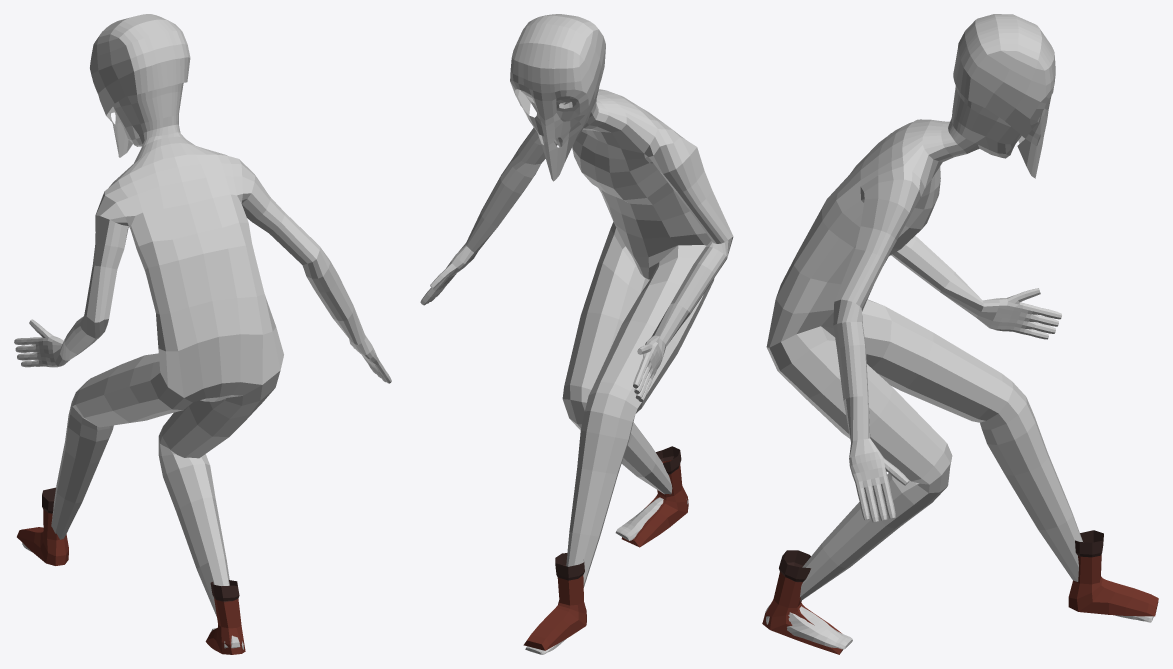
The model's file is saltoadelante_000135.obj.
The picture shows the model from 3 angles, left to right: view 1: azimuth 30°, elevation 25°; view 2: azimuth 150°, elevation 25°; view 3: azimuth 270°, elevation 25°; orthographic projection. The views are drawn at different scales.
Parts seen in each view (by area): view 1: Plane.002_Plane.001, Plane.003, Plane.004; view 2: Plane.002_Plane.001, Plane.004, Plane.003; view 3: Plane.002_Plane.001, Plane.004, Plane.003.
Boxes of the visible parts, x1,y1,x2,y2 form: Plane.002_Plane.001: [14, 14, 391, 649]; Plane.003: [205, 580, 245, 654]; Plane.004: [17, 487, 68, 565]; Plane.002_Plane.001: [420, 14, 733, 654]; Plane.004: [523, 553, 586, 650]; Plane.003: [621, 446, 688, 547]; Plane.002_Plane.001: [764, 14, 1153, 649]; Plane.004: [1068, 530, 1158, 616]; Plane.003: [762, 550, 842, 654].
Size of the model in its own units: 3.16 by 5.71 by 3.27.
